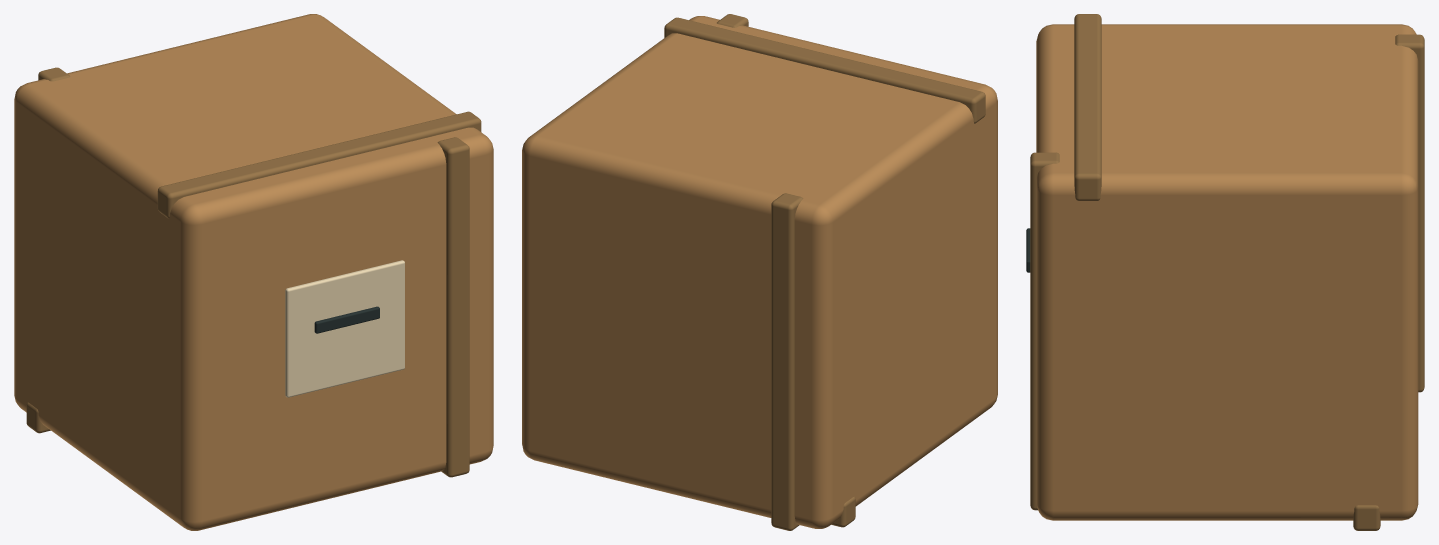
File: cargo-box-light.glb
The picture shows the model from 3 angles, left to right: view 1: azimuth 30°, elevation 25°; view 2: azimuth 150°, elevation 25°; view 3: azimuth 270°, elevation 25°; orthographic projection. The views are drawn at different scales.
Parts seen in each view (by area): view 1: wood, leather, cream, dark; view 2: wood, leather; view 3: wood, leather.
Boxes of the visible parts, left/top/right/bottom form: wood: left=14, top=14, right=493, bottom=530; leather: left=26, top=67, right=481, bottom=477; cream: left=285, top=260, right=404, bottom=397; dark: left=314, top=306, right=379, bottom=333; wood: left=522, top=16, right=997, bottom=528; leather: left=664, top=14, right=985, bottom=530; wood: left=1036, top=24, right=1418, bottom=520; leather: left=1030, top=14, right=1424, bottom=530.
Bounding box in the file's own units: 0.636 × 0.65 × 0.6565.
